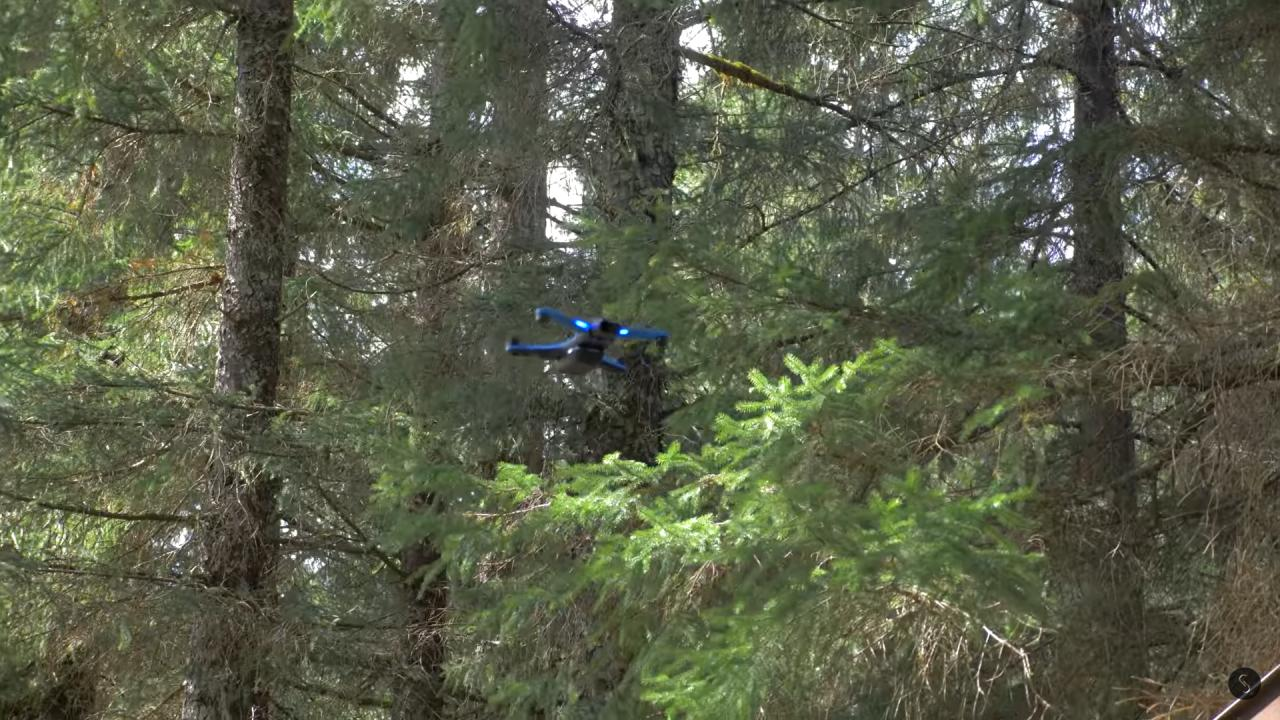Drone: (491, 290, 683, 386)
